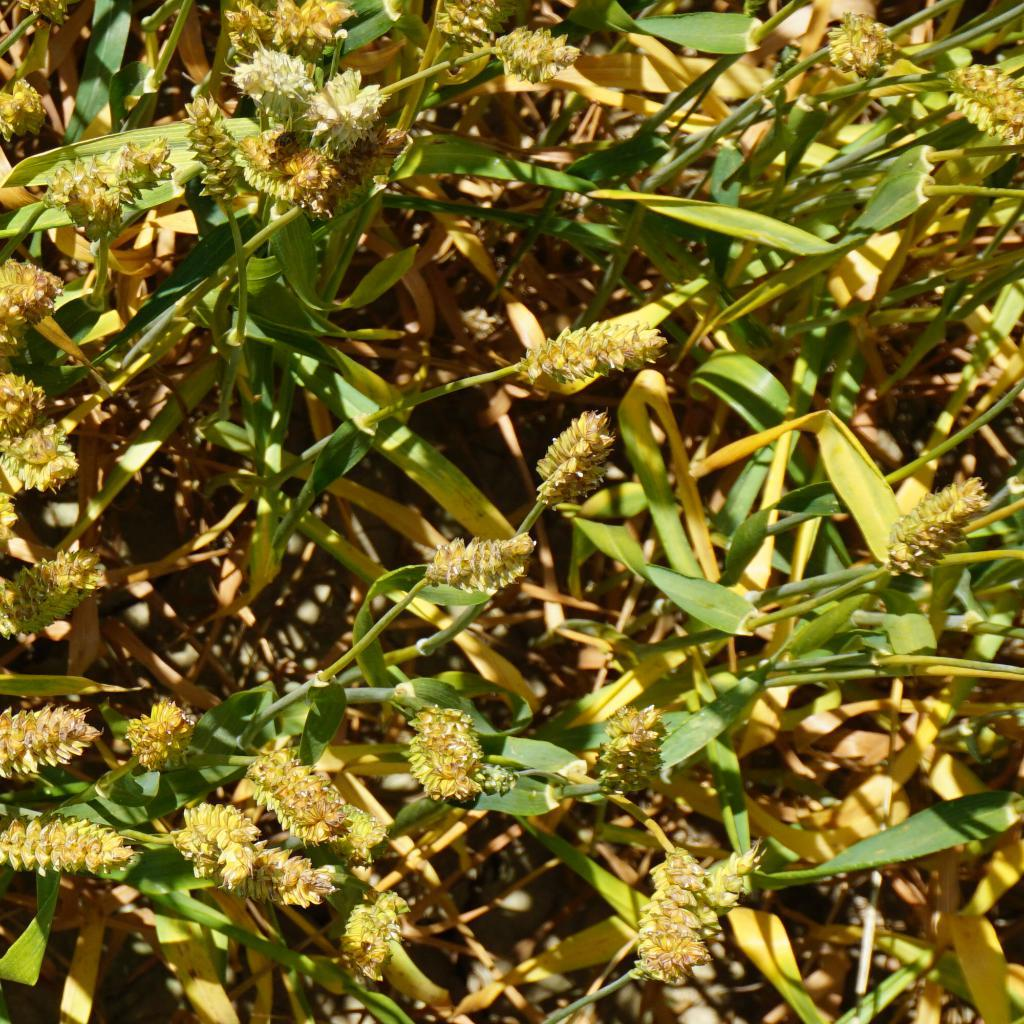0-0: (623, 849, 765, 980), (513, 310, 660, 395), (242, 754, 363, 849), (32, 131, 178, 209), (525, 401, 626, 508), (882, 475, 989, 575), (633, 847, 712, 977), (408, 697, 497, 805), (0, 805, 135, 875), (0, 545, 107, 632), (414, 525, 548, 593), (591, 696, 673, 807), (331, 876, 412, 983), (183, 806, 269, 900), (474, 21, 590, 89), (0, 703, 93, 785), (325, 134, 424, 209), (120, 689, 201, 778), (177, 84, 241, 195), (809, 3, 894, 84), (945, 57, 1024, 141), (231, 0, 355, 52), (243, 124, 317, 203), (3, 417, 90, 484), (243, 54, 326, 121), (0, 257, 52, 358), (307, 61, 396, 120), (239, 846, 332, 900), (57, 152, 117, 227), (0, 78, 63, 142), (323, 793, 382, 857), (439, 0, 519, 43), (0, 361, 40, 427), (0, 478, 19, 531)
